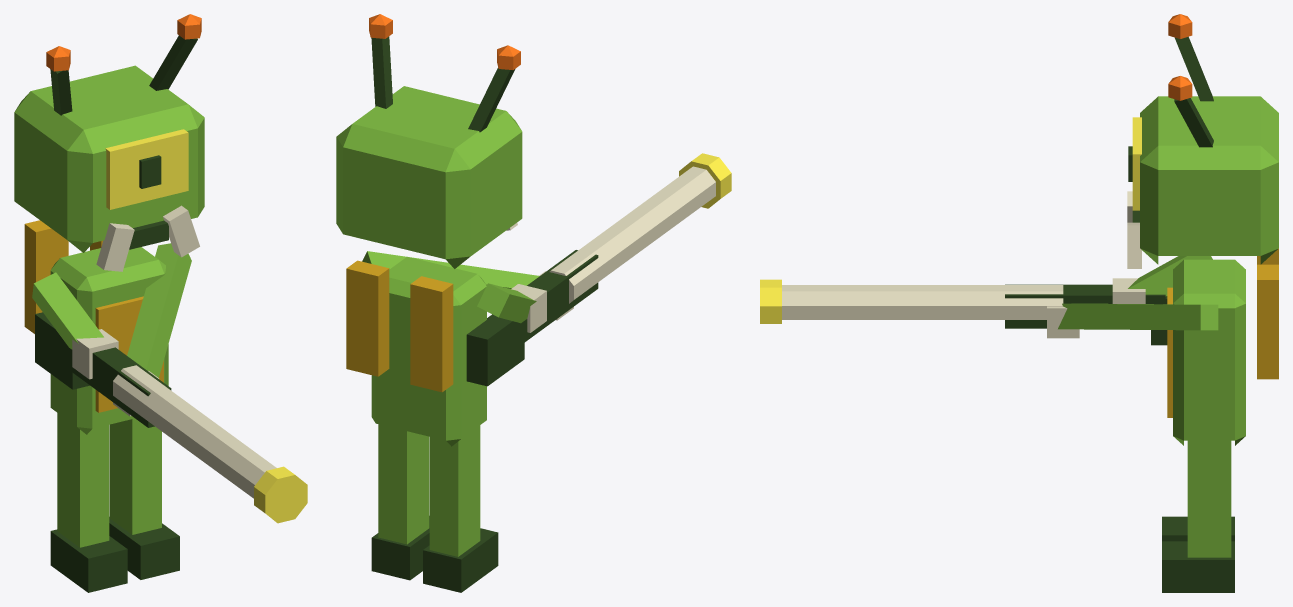
The model's file is sniper_enemy_r10.glb.
3 views of the same model, side by side, from view 1: azimuth 30°, elevation 25°; view 2: azimuth 150°, elevation 25°; view 3: azimuth 270°, elevation 25° (orthographic). The views are drawn at different scales.
Parts seen in each view (by area): view 1: sniper_enemy_r10_mesh; view 2: sniper_enemy_r10_mesh; view 3: sniper_enemy_r10_mesh.
Part boxes in pixels (bbox=[...]): sniper_enemy_r10_mesh: bbox=[14, 14, 307, 592]; sniper_enemy_r10_mesh: bbox=[336, 14, 731, 592]; sniper_enemy_r10_mesh: bbox=[760, 14, 1278, 592].
Bounding box in the file's own units: 0.512 × 1.7 × 1.52.
Materials: 1 (1 with a texture image).
